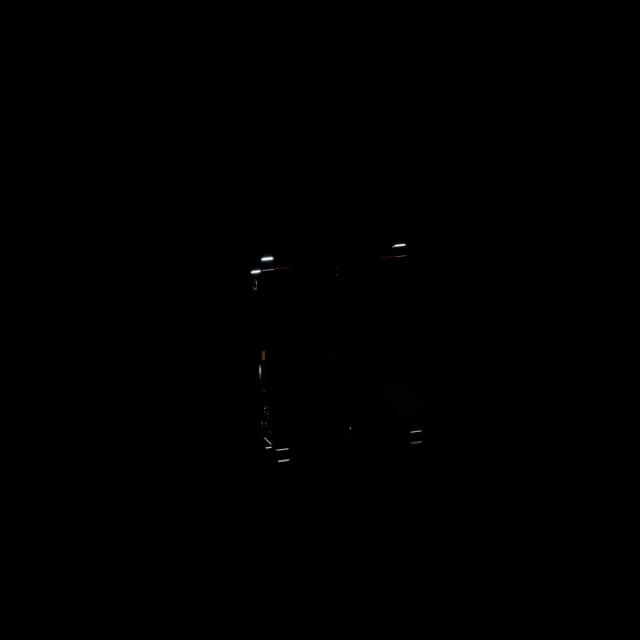medium_debris: (241, 224, 456, 466)
